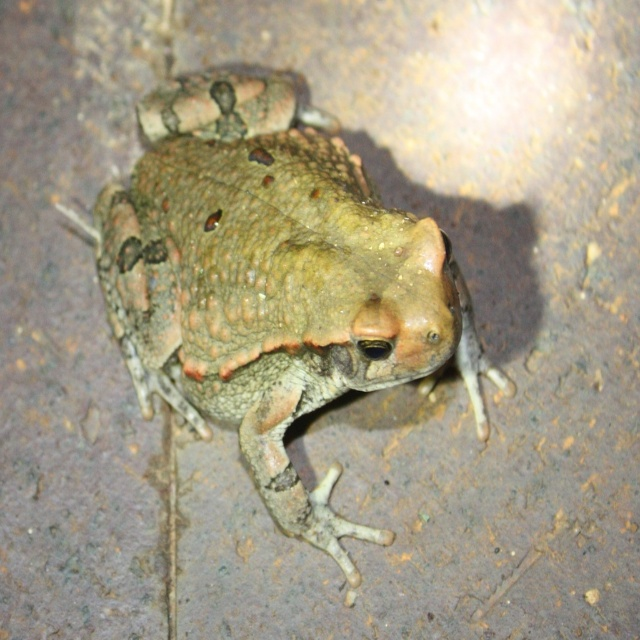Frog: (94, 68, 518, 587)
